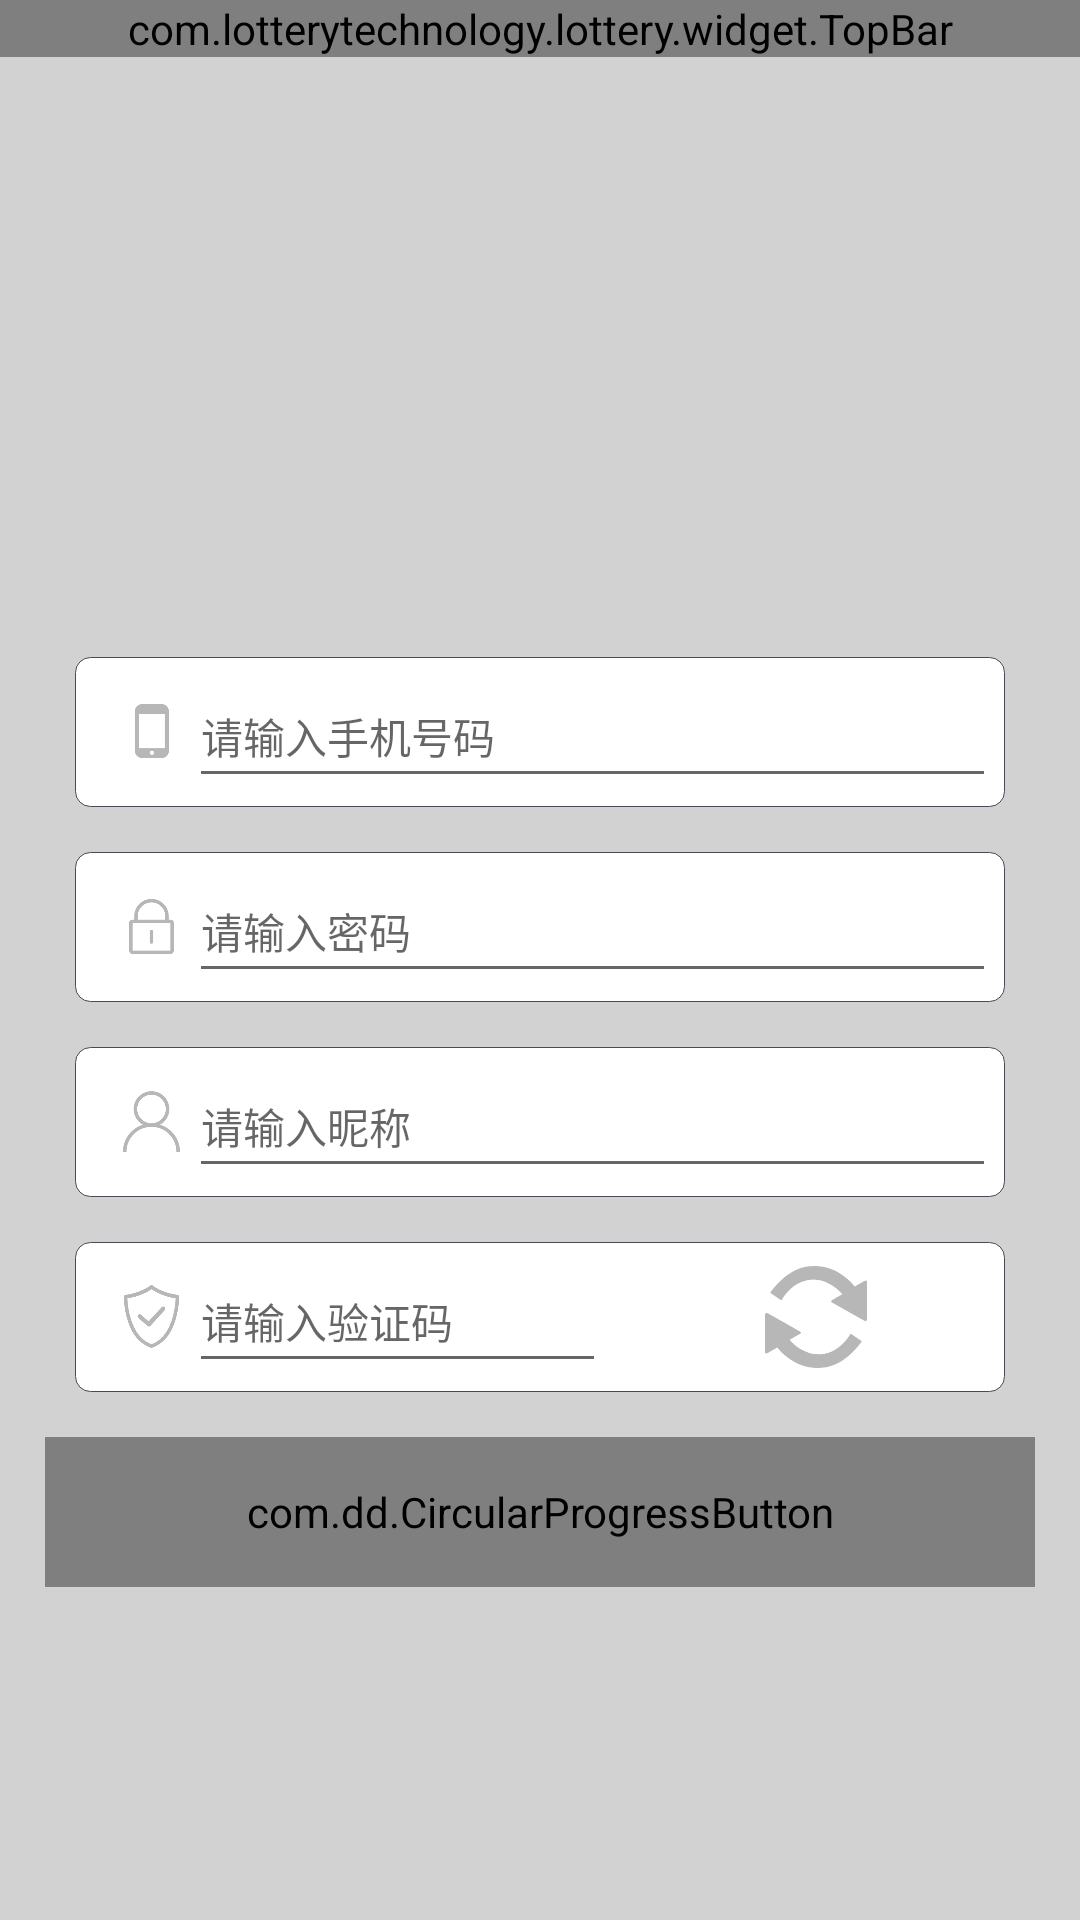

Icons on this 1080×1920 Android screen, each with the point to tap as point (x, y):
mobile: point (152, 731)
nick name: point (151, 1121)
password: point (151, 926)
reload: point (816, 1317)
vercode: point (151, 1316)
